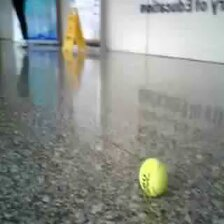tennis: (139, 157, 168, 198)
